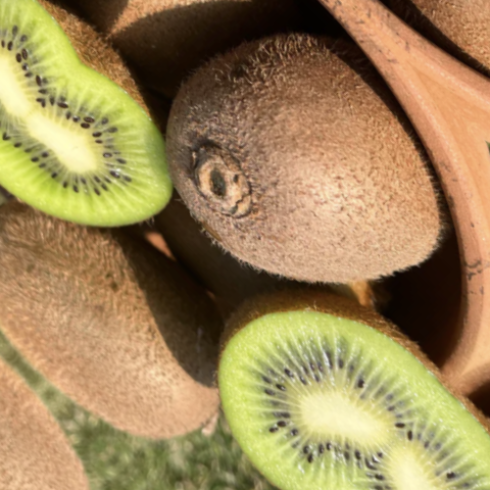kiwi: (80, 0, 490, 392), (0, 134, 299, 490)
